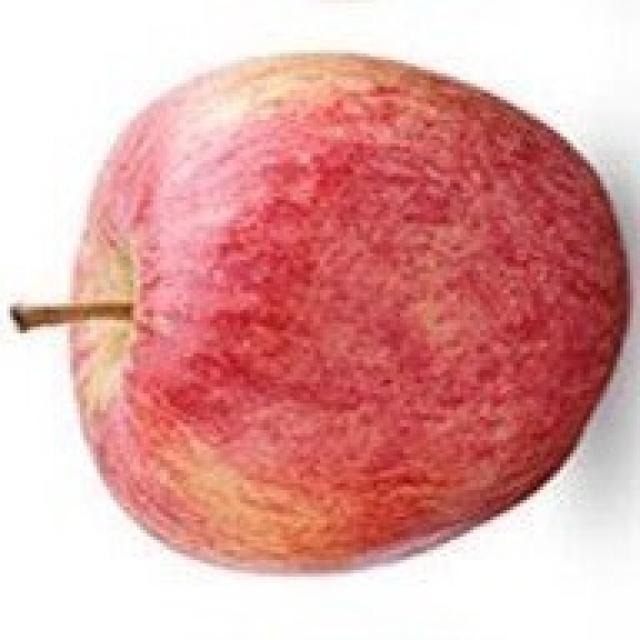75-_ripeness: (63, 53, 627, 575)
